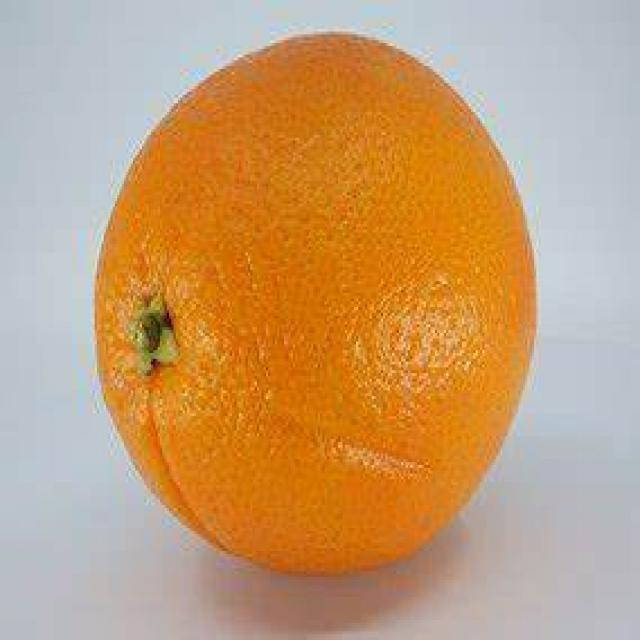Orange: (101, 35, 541, 577)
